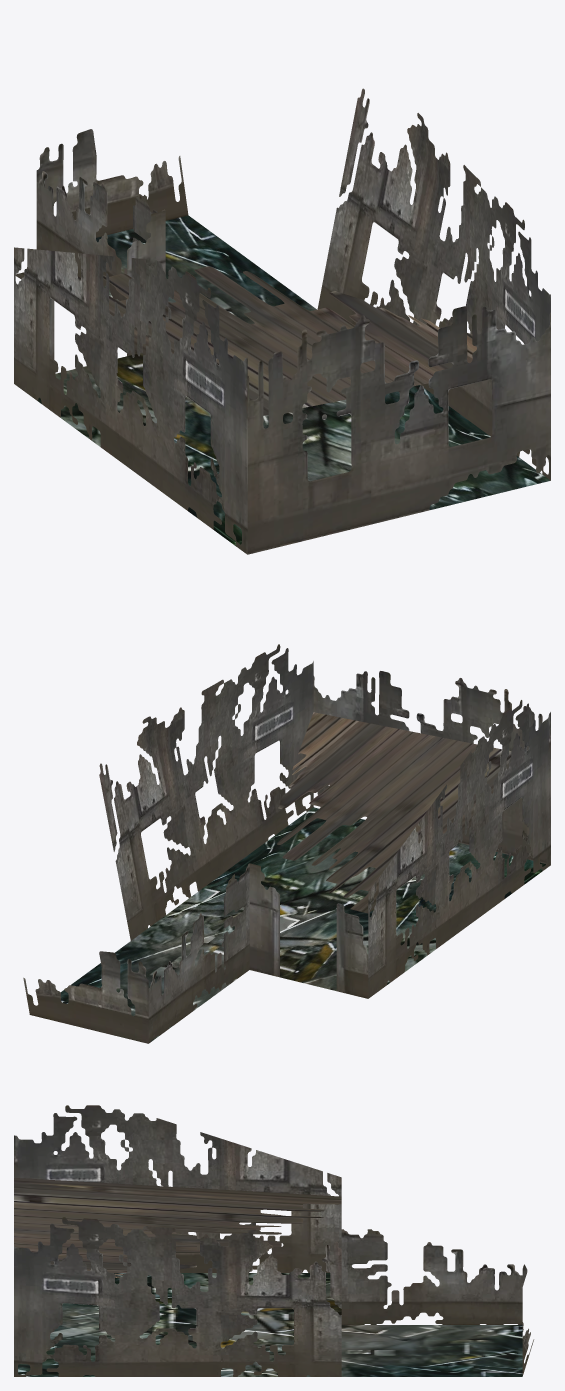
File: 2storycivliving_dam_hdtex.glb
3 views of the same model, one above another, from view 1: azimuth 30°, elevation 25°; view 2: azimuth 150°, elevation 25°; view 3: azimuth 270°, elevation 25° (orthographic). The views are drawn at different scales.
Visible parts, largest first — view 1: Box01; view 2: Box01; view 3: Box01.
Boxes of the visible parts, x1,y1,x2,y2 form: Box01: (14, 88, 550, 554); Box01: (23, 644, 550, 1043); Box01: (14, 1105, 534, 1376).
Size of the model in its own units: 6.93 by 5.27 by 12.77.
2 materials, 2 textured.
